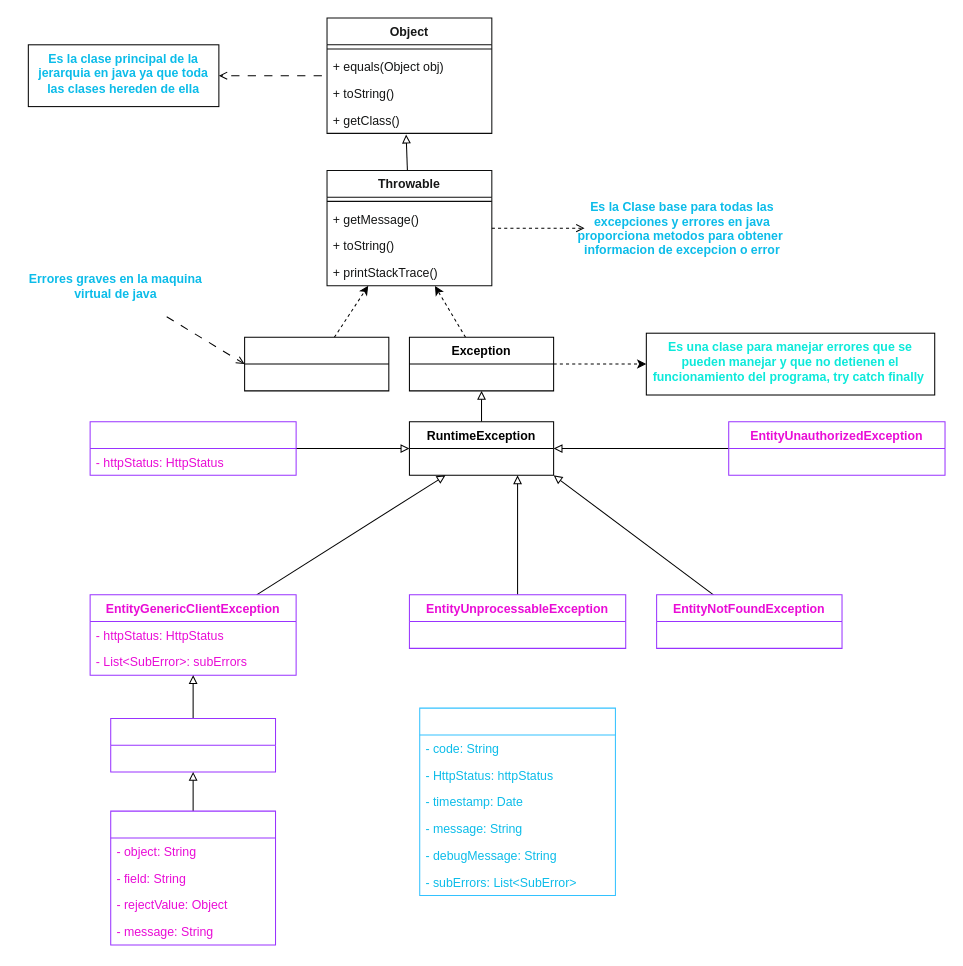
Some shapes in this 963 by 966 pixel diagram are drawn without their labels. The shapes that lost their labels are listed below. From the top down, each one's box as (x1, y1, x2, y2) in pixels, then its label:
(244, 336, 389, 391): Error
(89, 421, 296, 475): EntityGenericServerException
(110, 717, 276, 772): SubError
(419, 707, 615, 896): ErrorDTO
(110, 810, 276, 945): ValidationError
